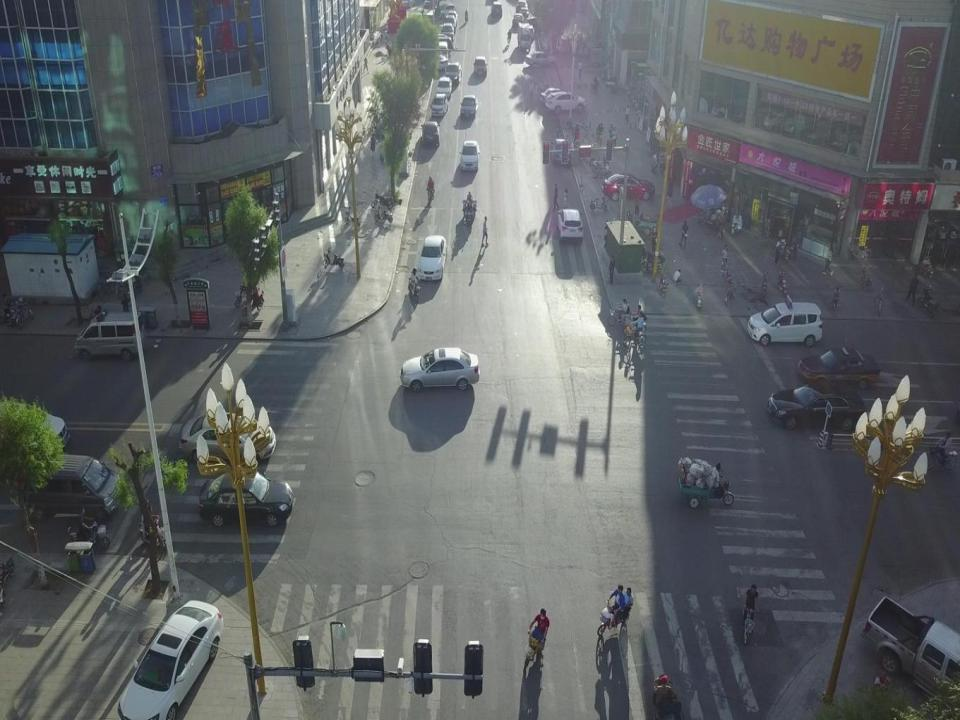car: (116, 599, 224, 720), (200, 474, 293, 527), (766, 381, 865, 429), (179, 416, 275, 458), (748, 294, 823, 346), (1, 402, 70, 452), (400, 348, 480, 391), (798, 345, 880, 384), (602, 173, 656, 200), (418, 236, 447, 280), (545, 91, 587, 114), (557, 208, 584, 243), (458, 140, 479, 170), (550, 138, 571, 166), (524, 50, 556, 68), (420, 122, 440, 147), (459, 94, 478, 119), (423, 52, 447, 70), (431, 92, 448, 116), (444, 63, 462, 84), (540, 88, 570, 100), (435, 3, 457, 19), (436, 76, 452, 97), (473, 56, 487, 77), (432, 33, 452, 44), (441, 22, 454, 36), (512, 13, 524, 28), (491, 2, 502, 17), (446, 15, 456, 31), (516, 1, 528, 12), (448, 10, 457, 24), (520, 7, 530, 19)
truck: (860, 596, 960, 703), (517, 22, 533, 50)
van: (31, 456, 123, 522), (76, 314, 144, 362), (431, 36, 453, 52), (435, 40, 447, 56)
